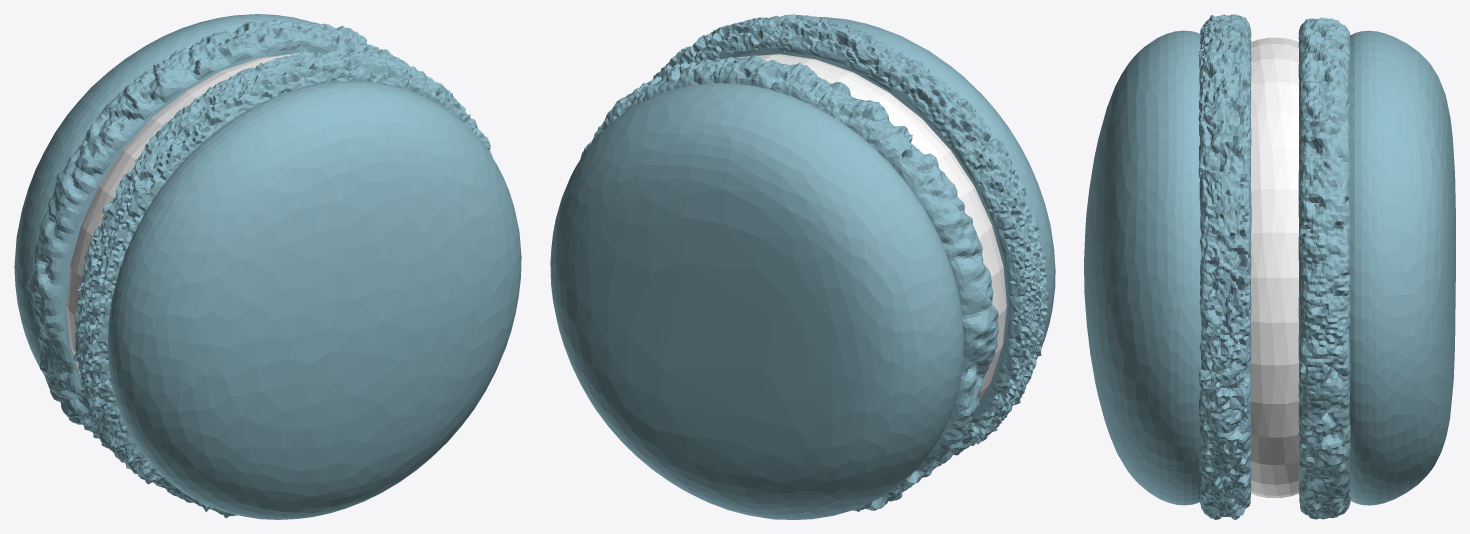
The model's file is macaroon_B.glb.
3 views of the same model, side by side, from view 1: azimuth 30°, elevation 25°; view 2: azimuth 150°, elevation 25°; view 3: azimuth 270°, elevation 25° (orthographic). The views are drawn at different scales.
Parts seen in each view (by area): view 1: Cube.652; view 2: Cube.652; view 3: Cube.652.
Part boxes in pixels (box(x1,y1,x2,y2)): Cube.652: box(14, 14, 521, 519); Cube.652: box(550, 14, 1055, 519); Cube.652: box(1084, 14, 1455, 519).
Bounding box in the file's own units: 15.73 × 15.85 × 11.55.
